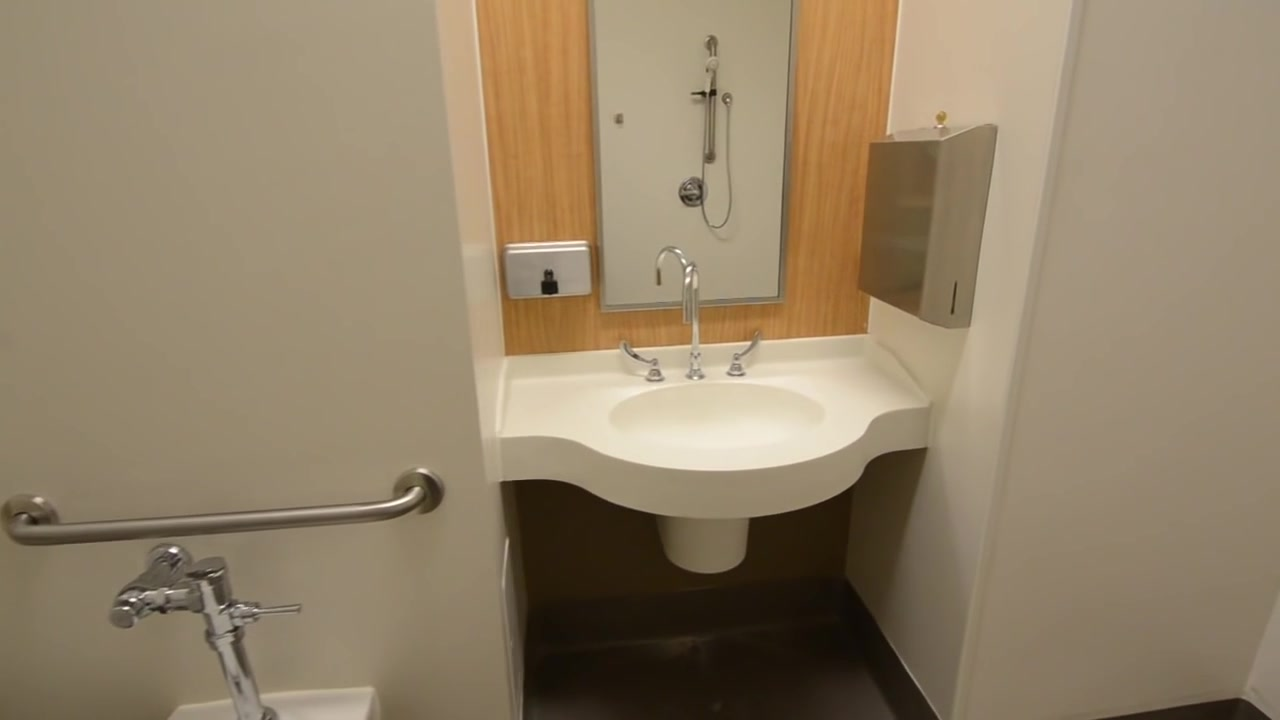dispenser: (857, 108, 997, 329)
faucet: (623, 246, 762, 382)
restroom_assist_bar: (4, 476, 429, 546)
sink: (608, 376, 828, 453)
toilet_handle: (248, 600, 304, 621)
